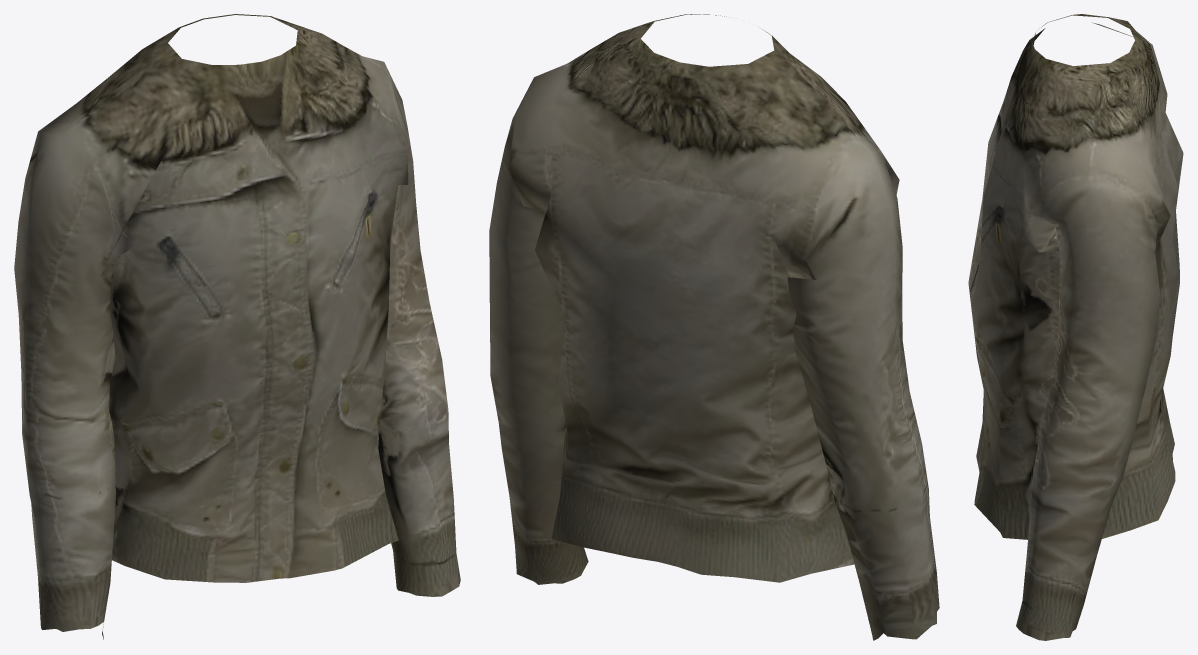
The model's file is 036-shell.glb.
3 renders of one model, left to right at view 1: azimuth 30°, elevation 25°; view 2: azimuth 150°, elevation 25°; view 3: azimuth 270°, elevation 25°, orthographic. The views are drawn at different scales.
Parts seen in each view (by area): view 1: geometry_0; view 2: geometry_0; view 3: geometry_0.
Boxes of the visible parts, x1=… form: geometry_0: x1=14, y1=14, x2=460, y2=639; geometry_0: x1=489, y1=14, x2=939, y2=640; geometry_0: x1=968, y1=14, x2=1183, y2=640.
Size of the model in its own units: 0.5644 by 0.7519 by 0.2851.
Materials: 1 (1 with a texture image).
